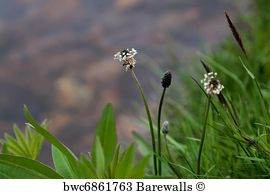buckhorn plantain: (109, 42, 143, 82), (201, 72, 229, 100), (156, 63, 174, 100)
